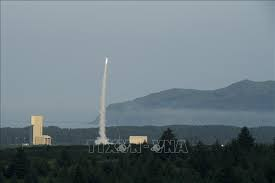ten_lua: (103, 54, 109, 65)
